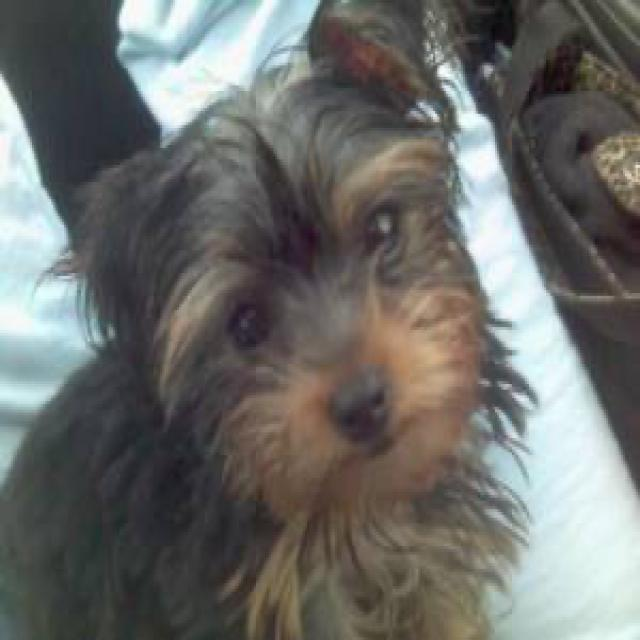dog: (72, 0, 478, 501)
